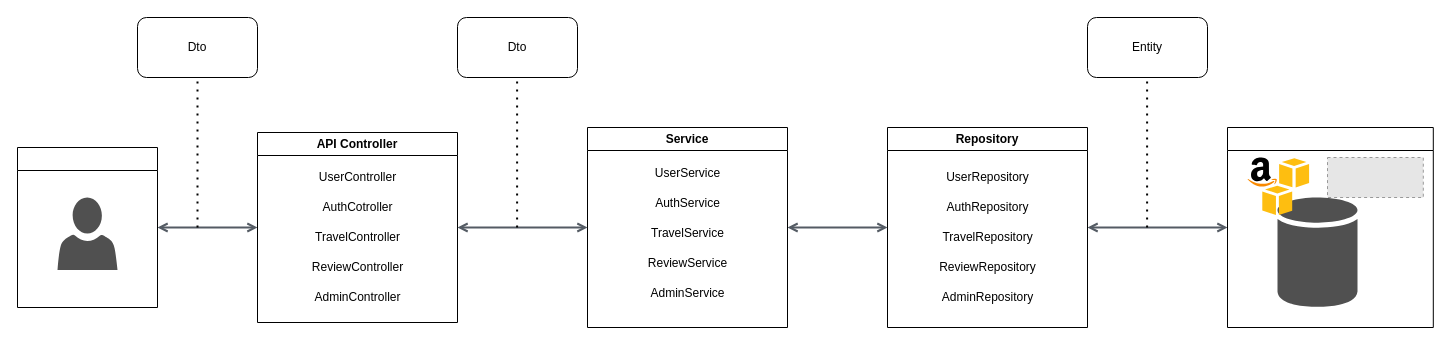
Image size: 1451x345. Some labels were removed from this diagram. Grey dashed boxes stand in for pictures. The shapes that lost their labels are listed below. From the top down, each one's box as (x1, y1, x2, y2) in pixels, then its label:
(16, 146, 158, 308): Front-Client
(1226, 126, 1433, 328): DB
